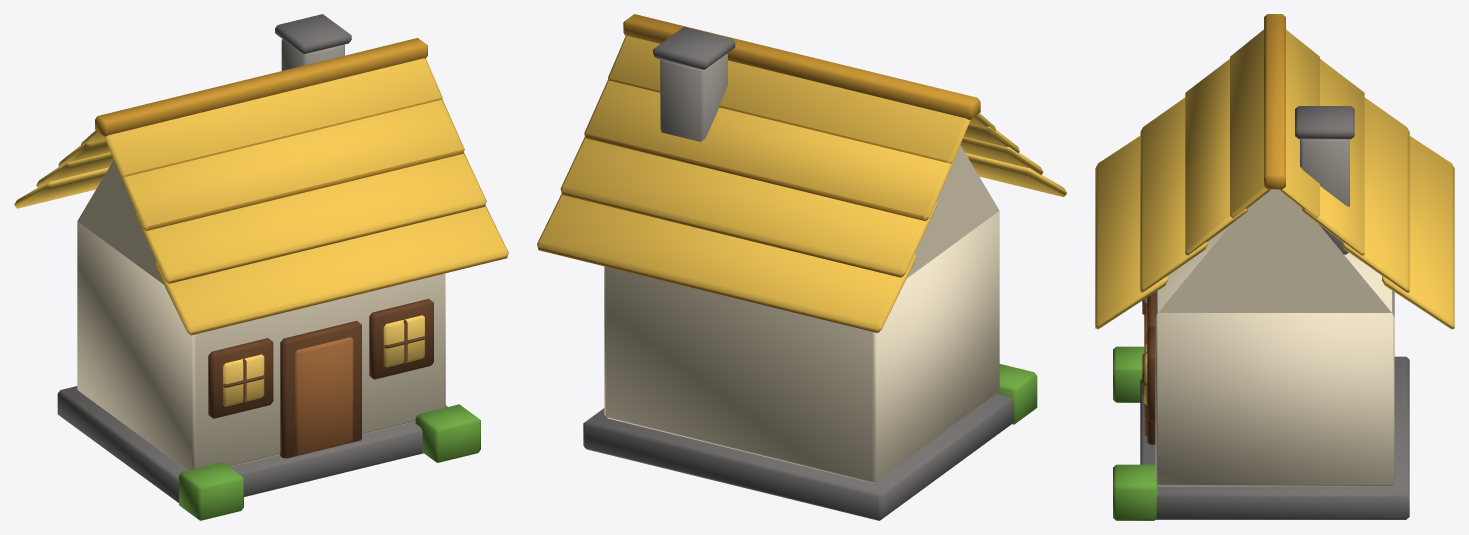
Rendered from B_MedCottage.fbx.
3 views of the same model, side by side, from view 1: azimuth 30°, elevation 25°; view 2: azimuth 150°, elevation 25°; view 3: azimuth 270°, elevation 25° (orthographic). The views are drawn at different scales.
Visible parts, largest first — view 1: M_Cottage; view 2: M_Cottage; view 3: M_Cottage.
Part boxes in pixels (<box>): M_Cottage: <box>14,14,508,520</box>; M_Cottage: <box>537,14,1066,520</box>; M_Cottage: <box>1095,14,1454,520</box>.
Bounding box in the file's own units: 3.85 × 4.12 × 3.6.
1 material, 1 textured.
